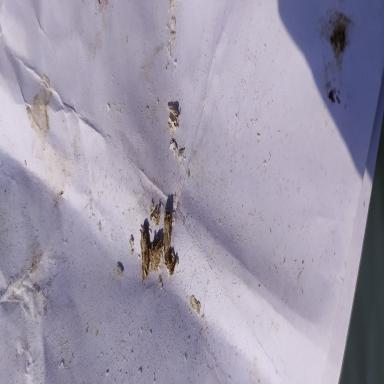pbw: (140, 225, 149, 282), (163, 211, 172, 262)
